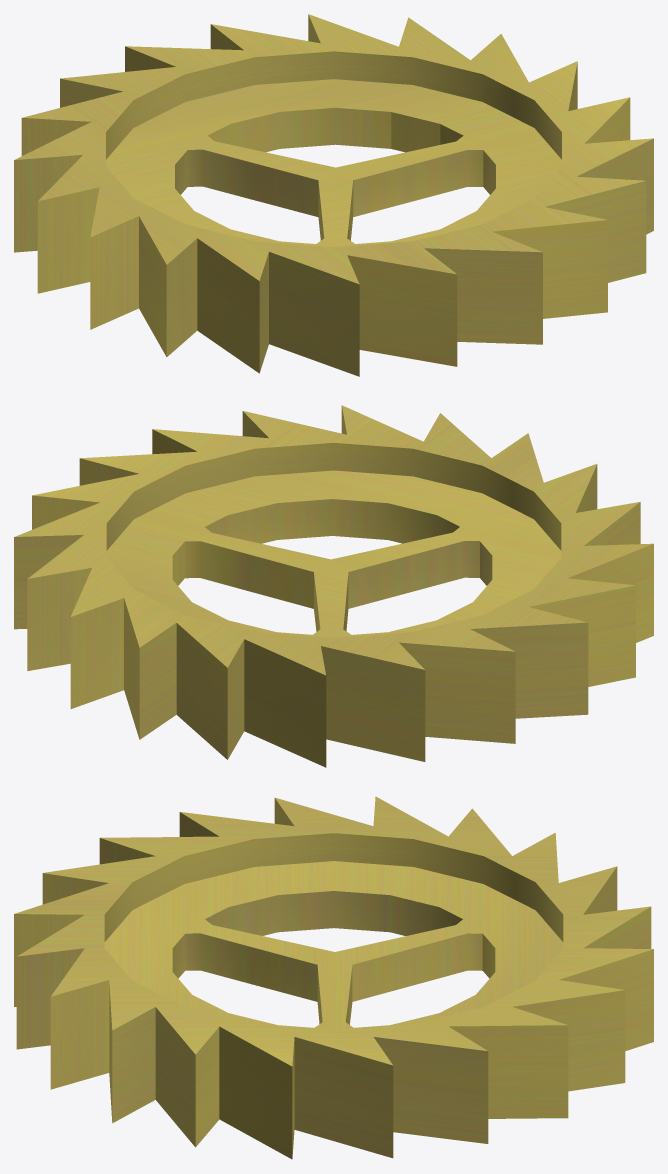
Rendered from ClockAngleFacet3Spoke020.fbx.
3 renders of one model, top to bottom at view 1: azimuth 30°, elevation 25°; view 2: azimuth 150°, elevation 25°; view 3: azimuth 270°, elevation 25°, orthographic.
Visible parts, largest first — view 1: ClockAngleFacet3Spoke020; view 2: ClockAngleFacet3Spoke020; view 3: ClockAngleFacet3Spoke020.
Boxes of the visible parts, x1,y1,x2,y2 form: ClockAngleFacet3Spoke020: (14,14,653,376); ClockAngleFacet3Spoke020: (14,405,653,767); ClockAngleFacet3Spoke020: (14,796,653,1159).
Bounding box in the file's own units: 123 × 19.69 × 123.
